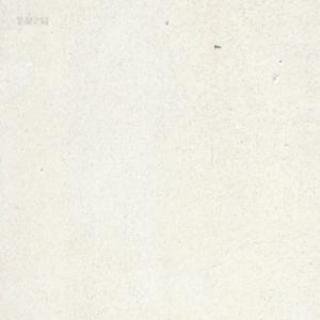Nailtrack_idkeyframe: (213, 43, 220, 49)
